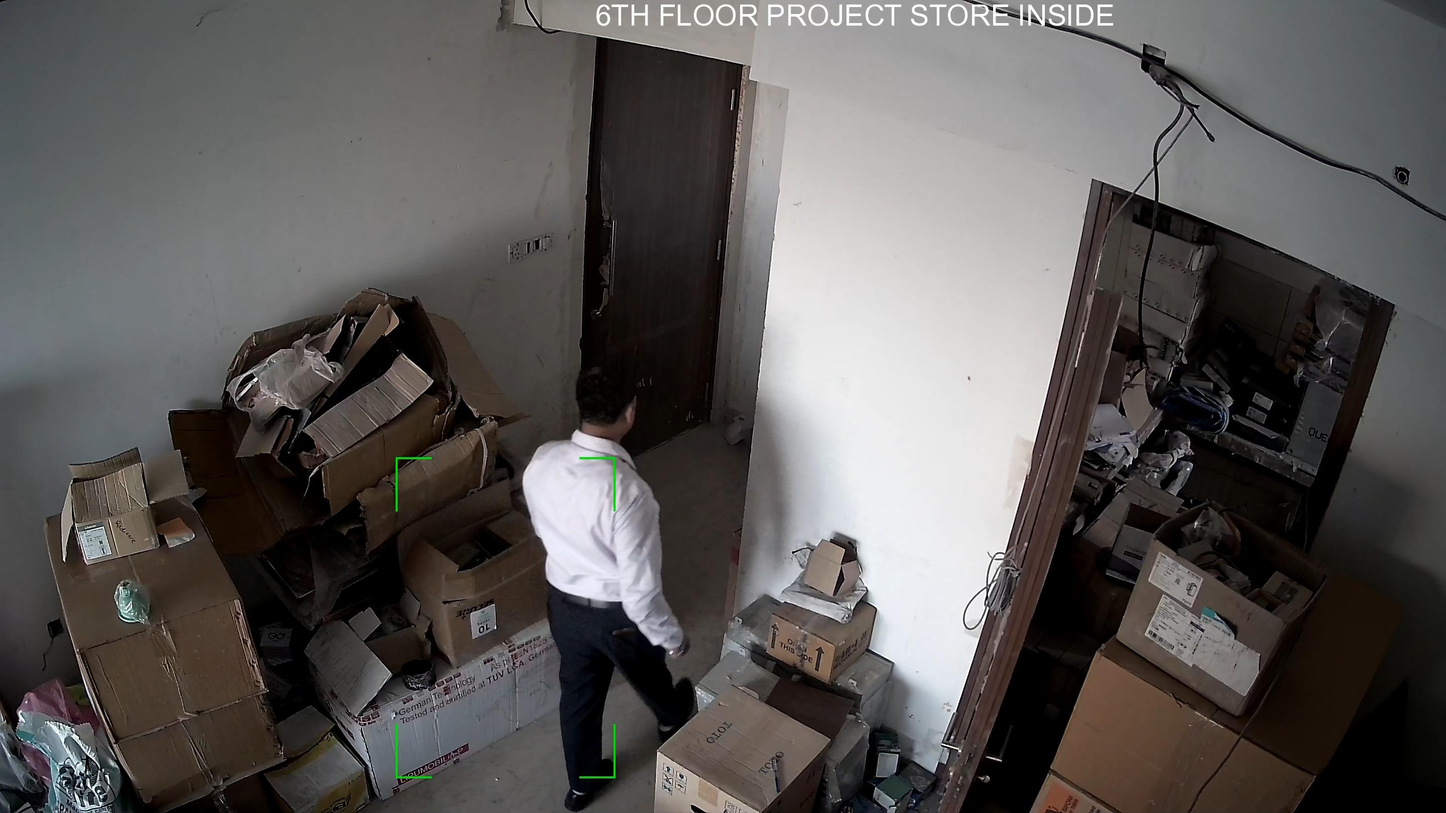Door-Close: (566, 25, 753, 463)
